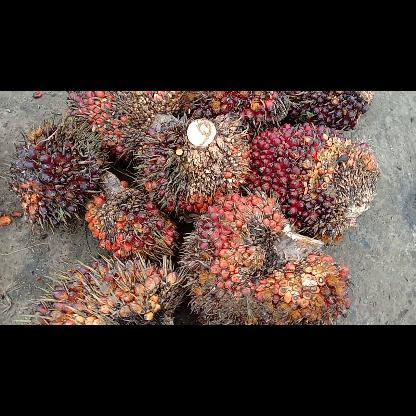TBS masak: (183, 196, 351, 322), (252, 124, 378, 240), (136, 116, 252, 214), (11, 115, 106, 225), (36, 260, 180, 324), (84, 172, 180, 258), (66, 91, 184, 157), (186, 92, 292, 132), (291, 92, 373, 132)
